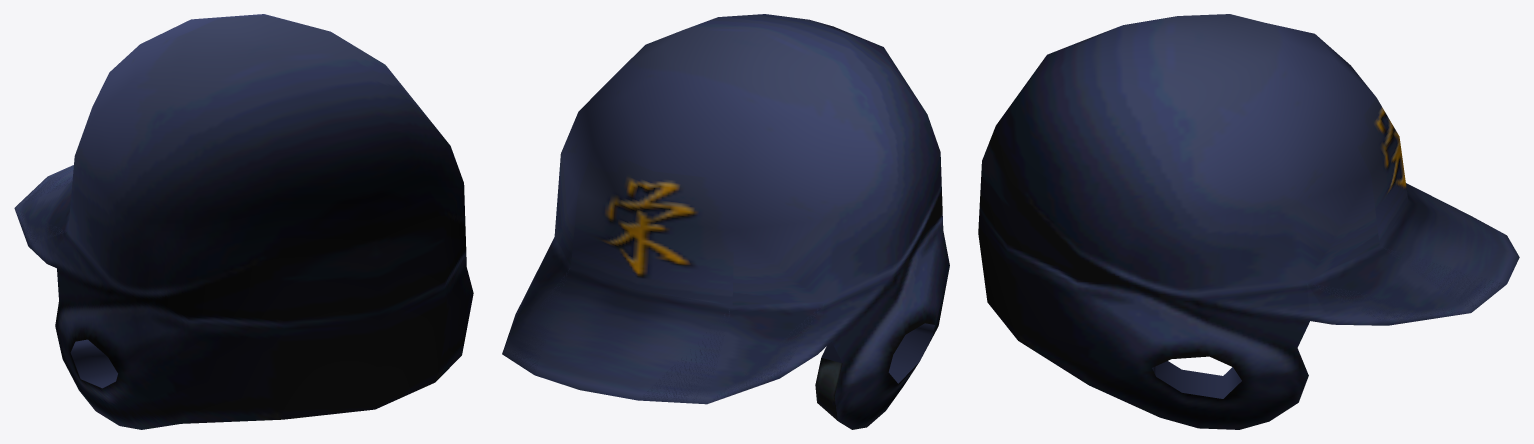
The model's file is ICON0.DAT.obj.
3 views of the same model, side by side, from view 1: azimuth 30°, elevation 25°; view 2: azimuth 150°, elevation 25°; view 3: azimuth 270°, elevation 25° (orthographic). The views are drawn at different scales.
Size of the model in its own units: 3.15 by 3.05 by 4.59.
1 material, 1 textured.
